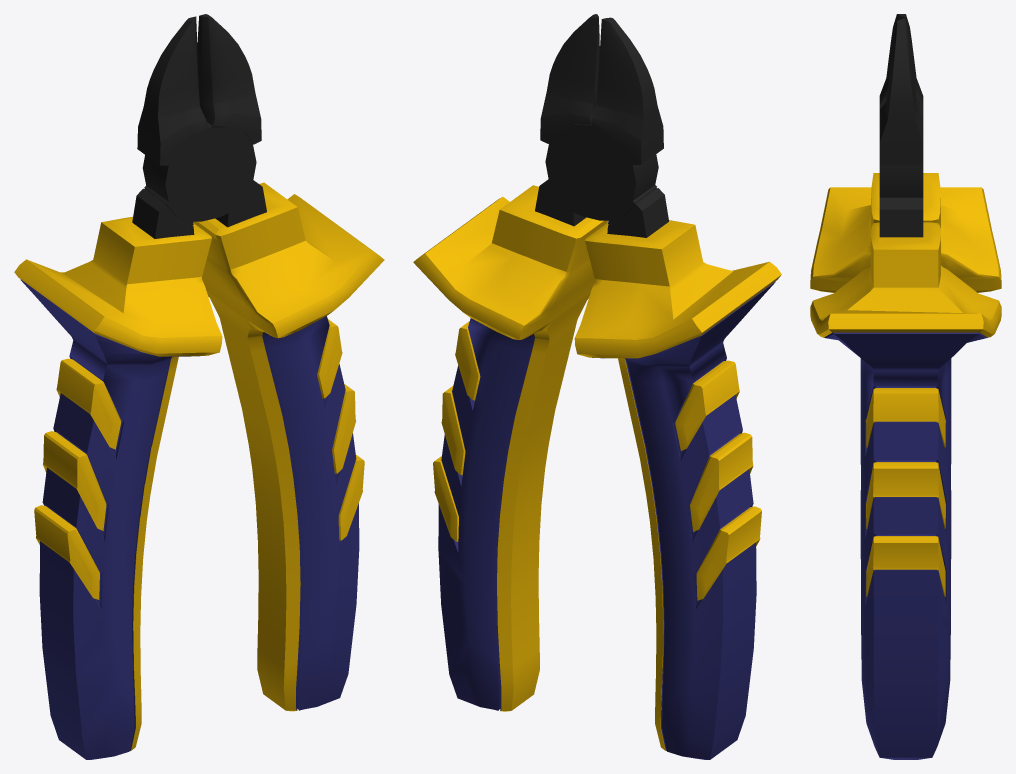
Rendered from Tang Potong.fbx.
The picture shows the model from 3 angles, left to right: view 1: azimuth 30°, elevation 25°; view 2: azimuth 150°, elevation 25°; view 3: azimuth 270°, elevation 25°; orthographic projection. The views are drawn at different scales.
Parts seen in each view (by area): view 1: Lap Cutter, Lap Cutter.001; view 2: Lap Cutter, Lap Cutter.001; view 3: Lap Cutter.001, Lap Cutter.
Boxes of the visible parts, bbox=[...] form: Lap Cutter: bbox=[14, 14, 261, 759]; Lap Cutter.001: bbox=[137, 16, 384, 711]; Lap Cutter: bbox=[540, 14, 781, 759]; Lap Cutter.001: bbox=[413, 17, 663, 711]; Lap Cutter.001: bbox=[810, 14, 1001, 759]; Lap Cutter: bbox=[810, 18, 1001, 292].
Bounding box in the file's own units: 8.11 × 18.61 × 4.68.
